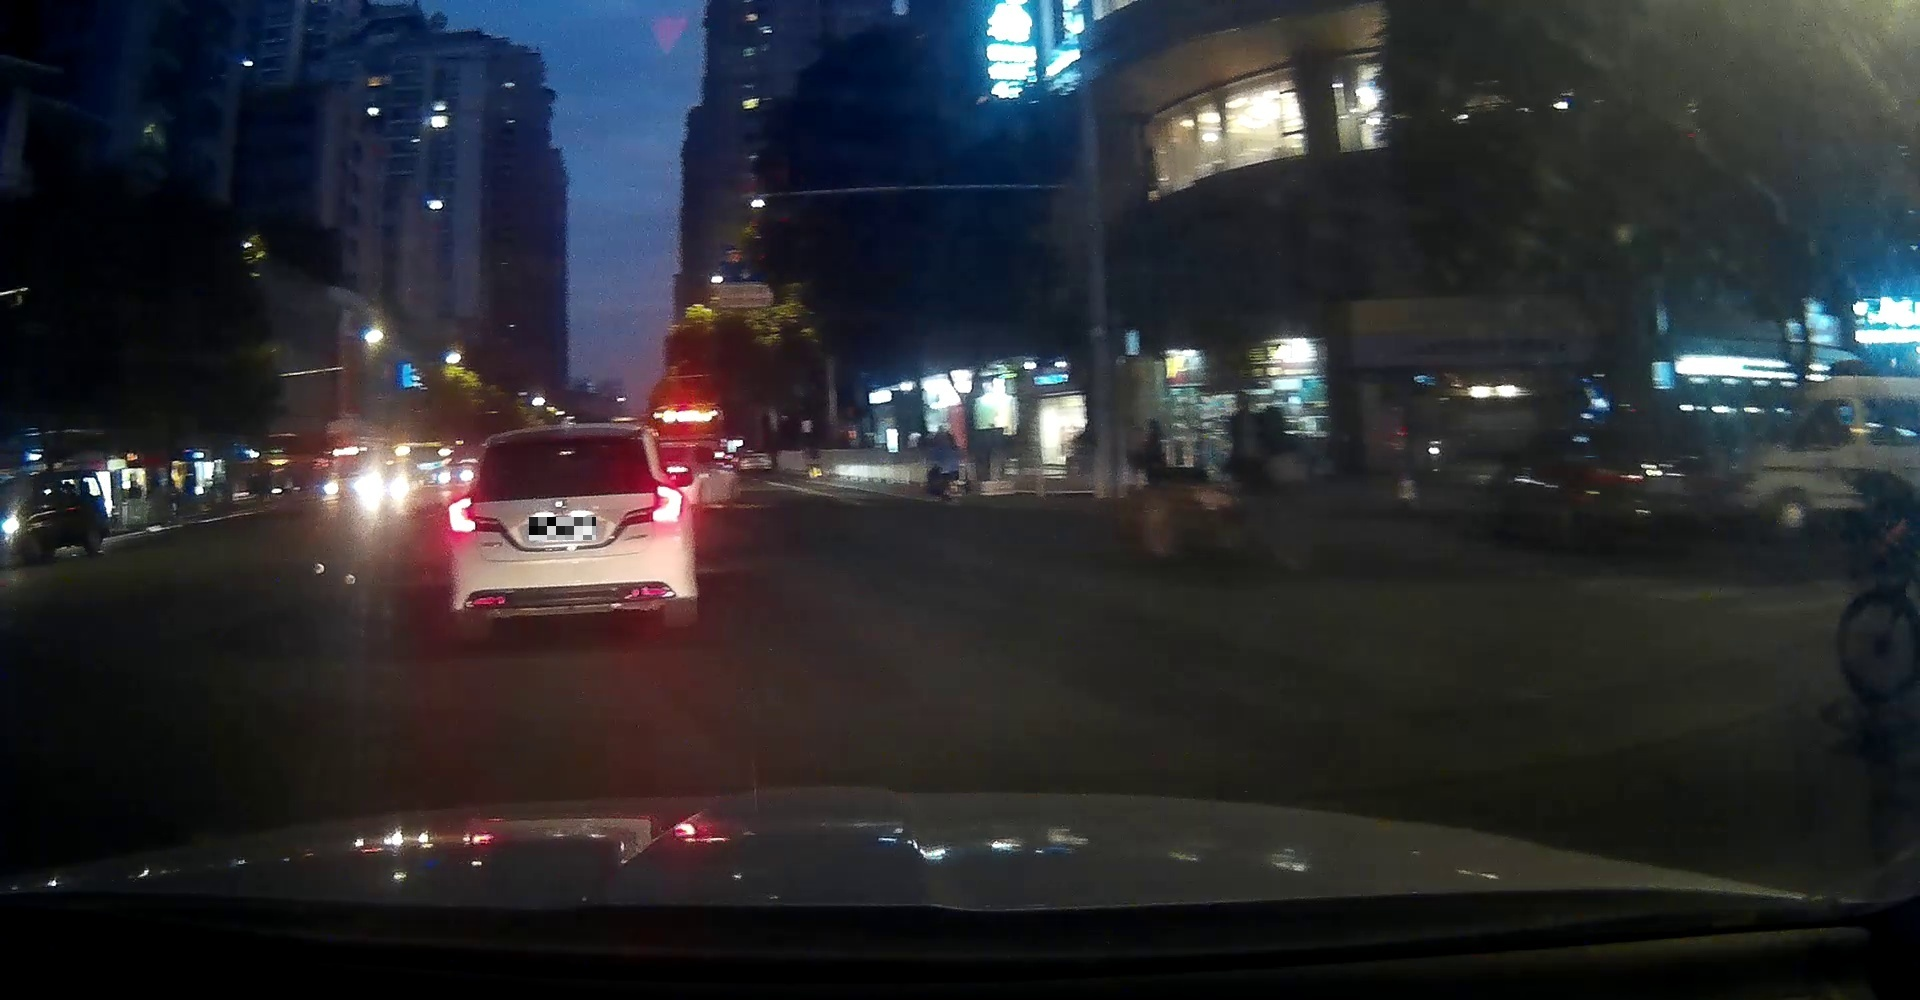L_light: (447, 494, 475, 533)
R_light: (651, 485, 682, 523)
T_light: (549, 437, 582, 442)
night-no: (447, 423, 698, 640)
plate_1: (530, 516, 596, 541)
